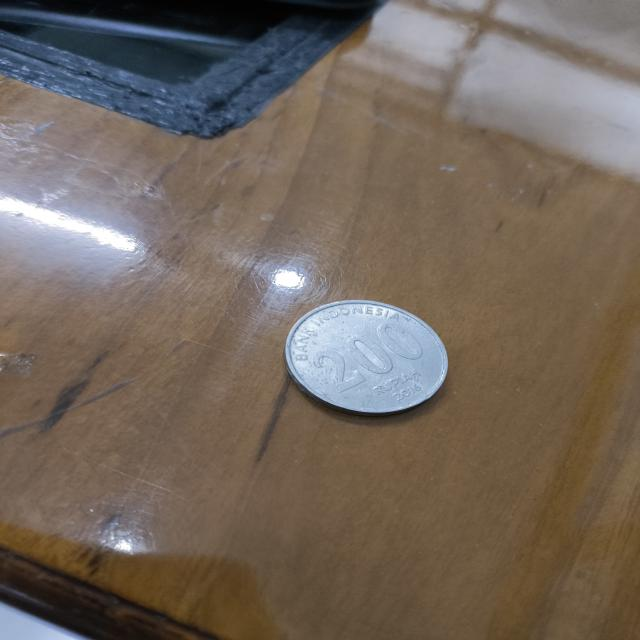1000-sawit: (285, 300, 448, 415), (308, 322, 310, 325)
